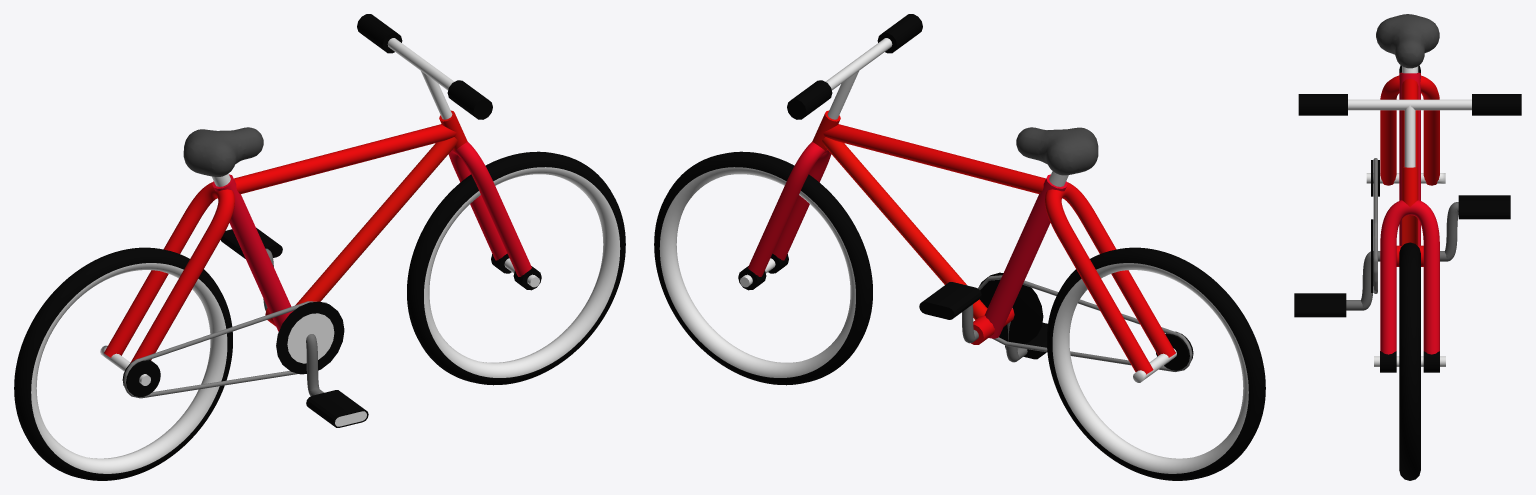
File: bike 2.fbx
The picture shows the model from 3 angles, left to right: view 1: azimuth 30°, elevation 25°; view 2: azimuth 150°, elevation 25°; view 3: azimuth 270°, elevation 25°; orthographic projection. The views are drawn at different scales.
Parts seen in each view (by area): view 1: NURBS円.001, NURBS円.004, NURBSパス.001, NURBSパス.004, NURBSパス.003, NURBSパス.019, NURBSパス.024, NURBSパス.007, メタボール.017, NURBSパス.002, NURBSパス.018, 立方体.003 (+3 smaller); view 2: NURBS円.001, NURBS円.004, NURBSパス.001, NURBSパス.004, NURBSパス.019, NURBSパス.003, NURBSパス.007, NURBSパス.002, メタボール.017, NURBSパス.024, 立方体.002, NURBSパス.018; view 3: NURBSパス.019, NURBS円.001, NURBSパス.007, NURBSパス.001, メタボール.017, 立方体.002, 立方体.003, NURBSパス.002, NURBSパス.004, NURBSパス.008, NURBSパス.049, NURBSパス.015 (+4 smaller).
Boxes of the visible parts, <box> form: NURBS円.001: <box>407,151,625,385</box>; NURBS円.004: <box>14,247,232,480</box>; NURBSパス.001: <box>104,182,234,363</box>; NURBSパス.004: <box>234,124,456,193</box>; NURBSパス.003: <box>295,137,457,305</box>; NURBSパス.019: <box>448,142,531,276</box>; NURBSパス.024: <box>276,301,344,374</box>; NURBSパス.007: <box>357,14,492,119</box>; メタボール.017: <box>183,127,263,176</box>; NURBSパス.002: <box>212,174,293,331</box>; NURBSパス.018: <box>123,301,327,398</box>; 立方体.003: <box>306,390,368,427</box>; NURBS円.001: <box>654,151,872,385</box>; NURBS円.004: <box>1047,247,1265,480</box>; NURBSパス.001: <box>1045,182,1175,374</box>; NURBSパス.004: <box>823,124,1045,193</box>; NURBSパス.019: <box>748,142,831,276</box>; NURBSパス.003: <box>822,137,987,319</box>; NURBSパス.007: <box>787,14,922,119</box>; NURBSパス.002: <box>984,174,1067,338</box>; メタボール.017: <box>1016,127,1098,175</box>; NURBSパス.024: <box>979,272,1043,343</box>; 立方体.002: <box>919,282,981,319</box>; NURBSパス.018: <box>977,275,1192,371</box>; NURBSパス.019: <box>1380,200,1439,354</box>; NURBS円.001: <box>1399,242,1420,480</box>; NURBSパス.007: <box>1298,94,1521,167</box>; NURBSパス.001: <box>1380,75,1439,185</box>; メタボール.017: <box>1376,14,1439,68</box>; 立方体.002: <box>1458,195,1510,219</box>; 立方体.003: <box>1294,293,1346,317</box>; NURBSパス.002: <box>1399,72,1420,246</box>; NURBSパス.004: <box>1402,79,1418,167</box>; NURBSパス.008: <box>1346,251,1380,310</box>; NURBSパス.049: <box>1440,202,1458,261</box>; NURBSパス.015: <box>1380,351,1439,372</box>.
Bounding box in the file's own units: 620 × 338 × 209.
